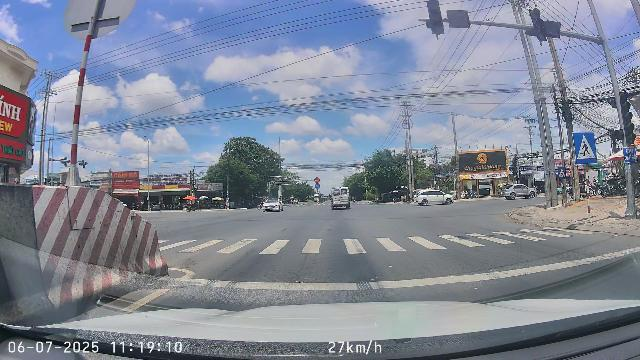423a-duong-nguoi-di-bo-sang-ngang-1: (572, 132, 597, 164)
